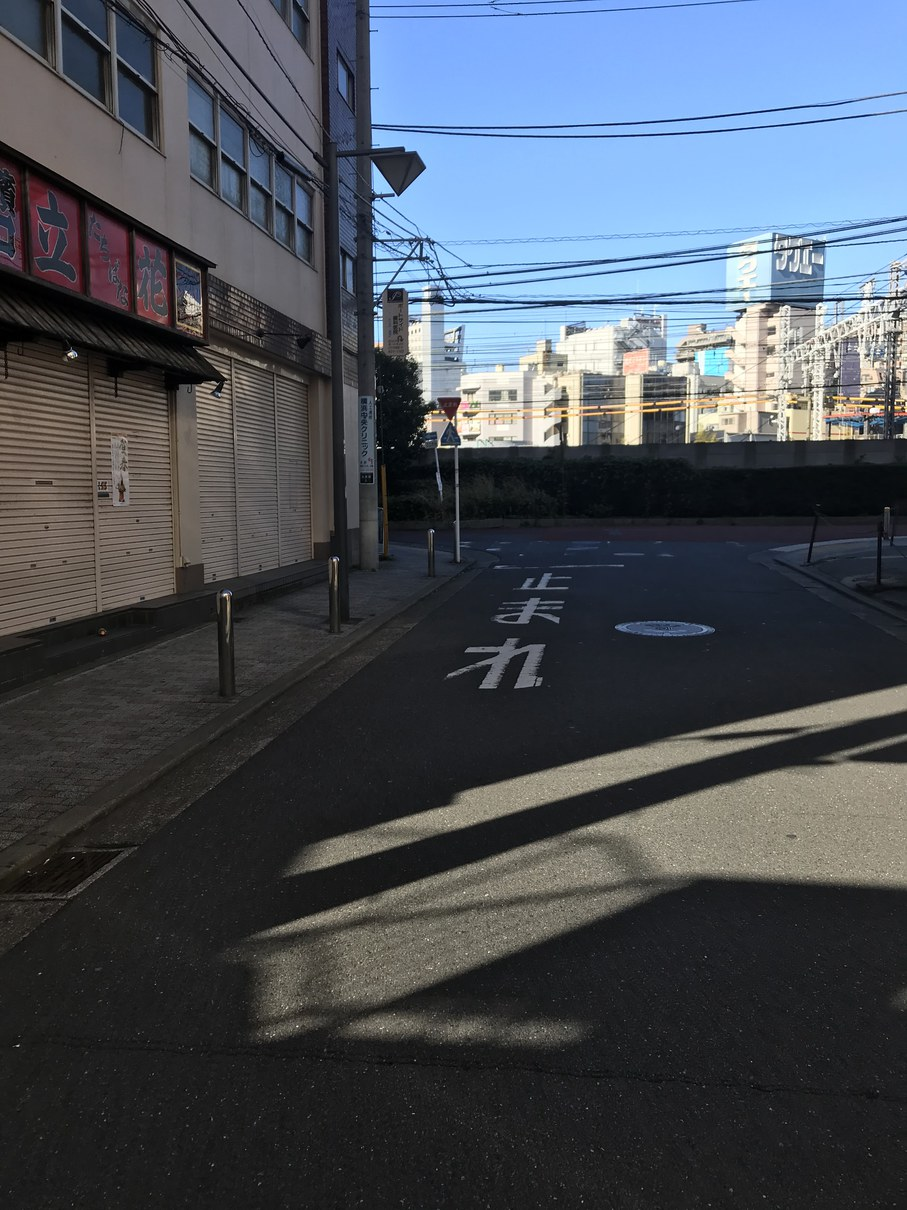stop_sign: (436, 396, 461, 420)
